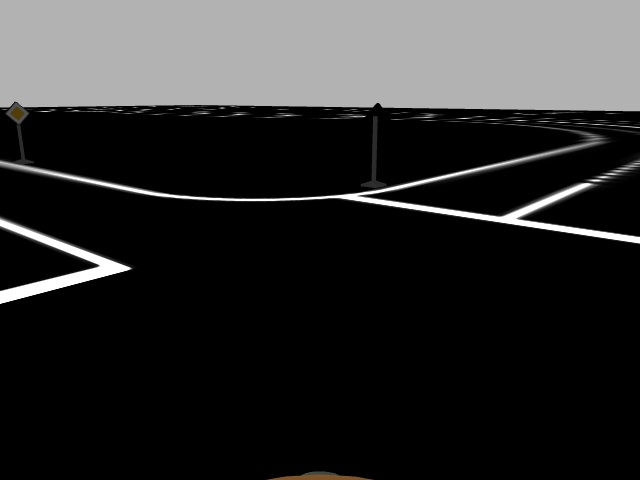priority: (4, 100, 30, 125)
